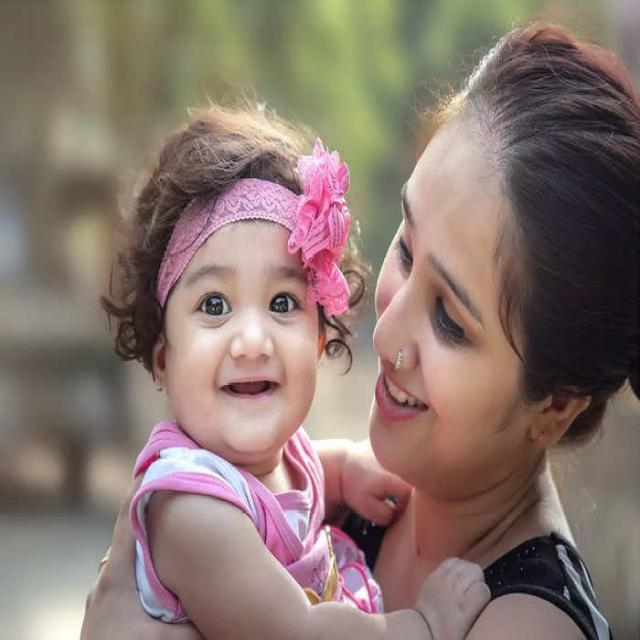non-dog: (107, 106, 491, 640), (316, 14, 640, 632)
